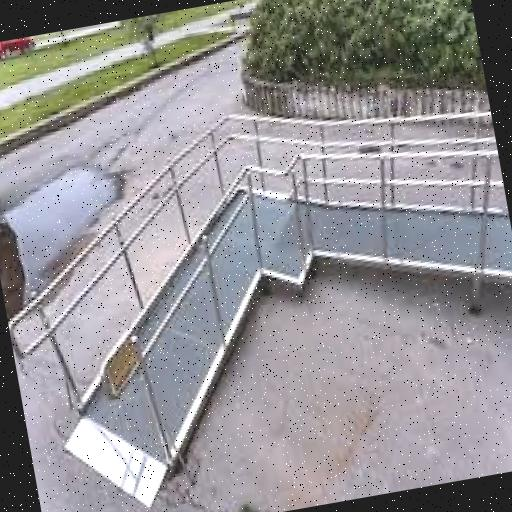ramp: (23, 195, 298, 512), (305, 166, 512, 321)
